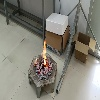fire: (43, 40, 49, 67), (35, 58, 38, 66)
